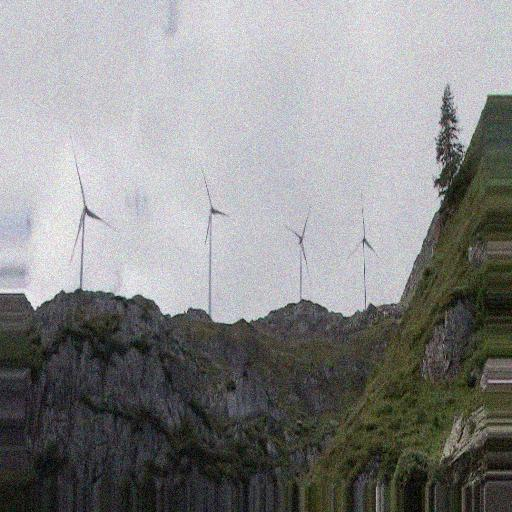wind turbine: (62, 134, 119, 287), (197, 164, 232, 304), (345, 191, 381, 304), (284, 210, 315, 301)
